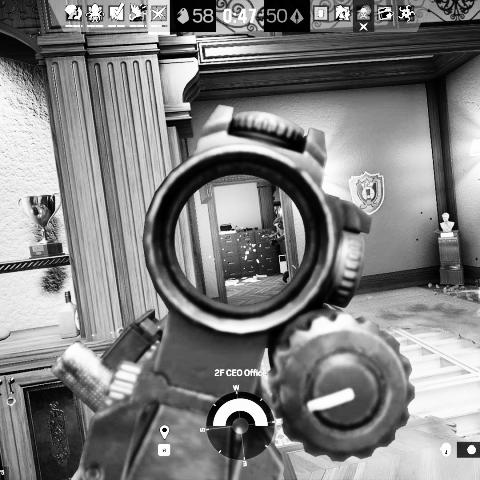Character: (266, 216, 291, 284)
Head: (273, 218, 283, 230)
